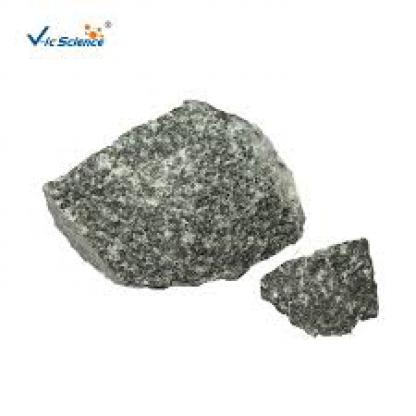Igneous_Diorite: (33, 96, 318, 292), (261, 230, 392, 350)
